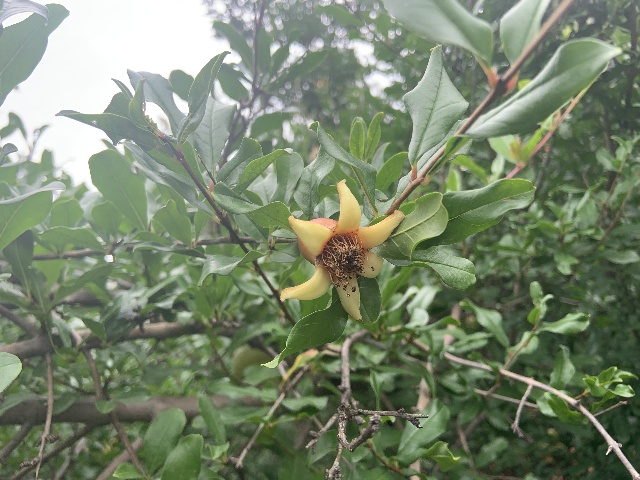early-fruit: (279, 179, 403, 322)
